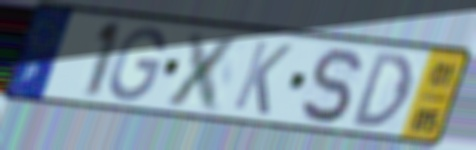1: (82, 20, 127, 100)
D: (349, 49, 416, 130)
G: (104, 25, 169, 105)
K: (229, 37, 296, 118)
S: (298, 44, 364, 125)
X: (160, 27, 247, 115)
